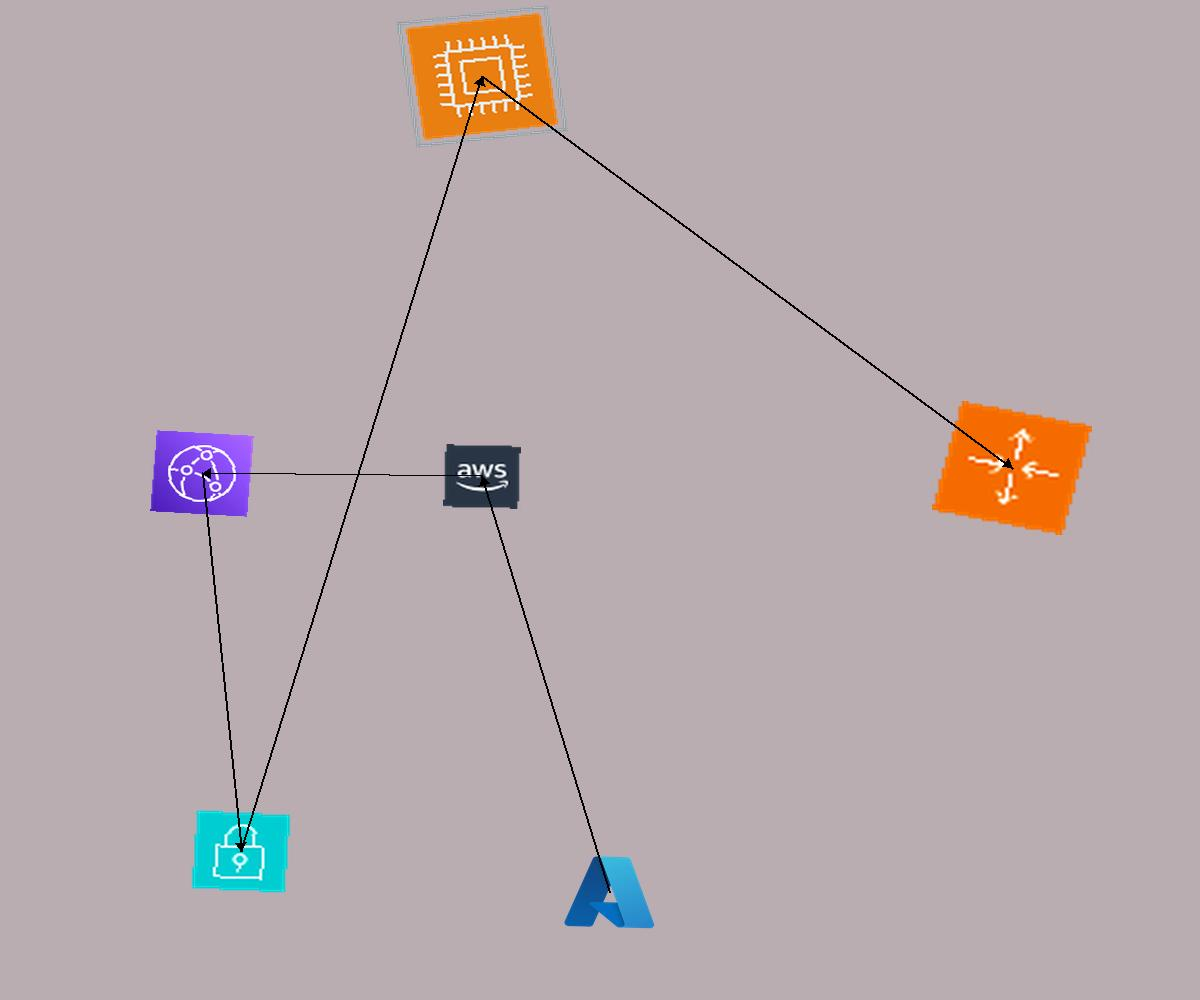AWS-Category_Compute: (396, 5, 568, 148)
AWS-Cloud-logo: (443, 444, 521, 509)
AWS-CloudFront: (150, 430, 254, 517)
AWS-Private-subnet: (190, 809, 292, 894)
AWS-Scaling-group: (932, 401, 1092, 535)
Azure_services: (560, 850, 661, 934)
